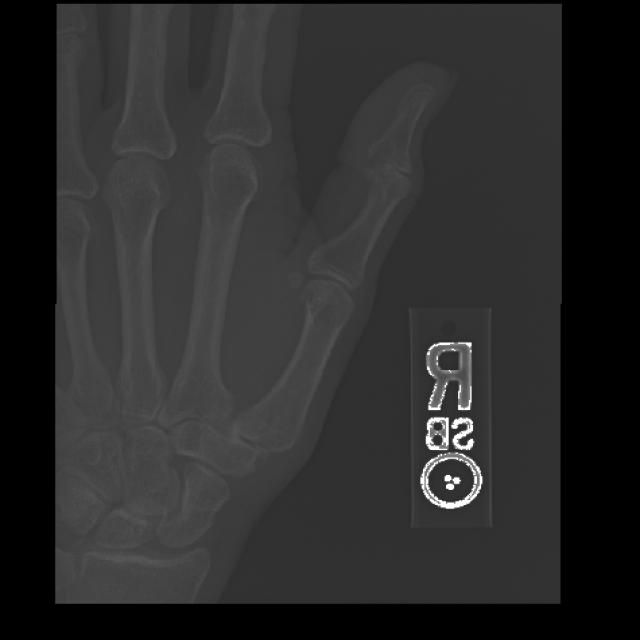fingers positive: (344, 115, 426, 199)
